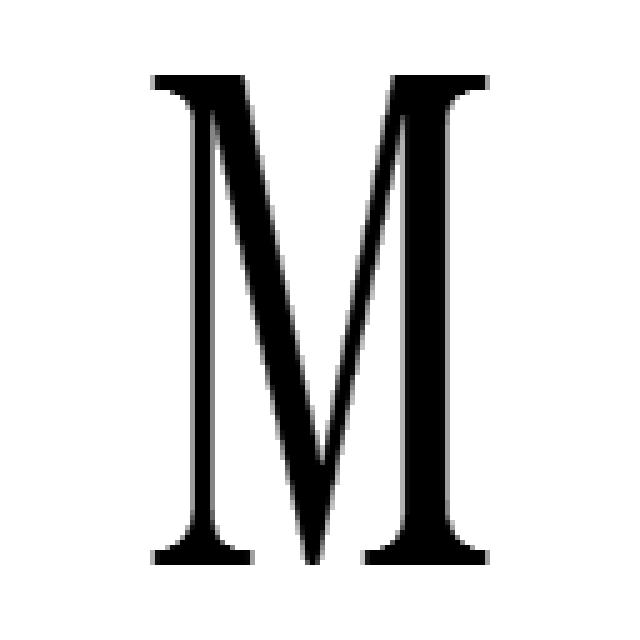M: (138, 67, 495, 570)
